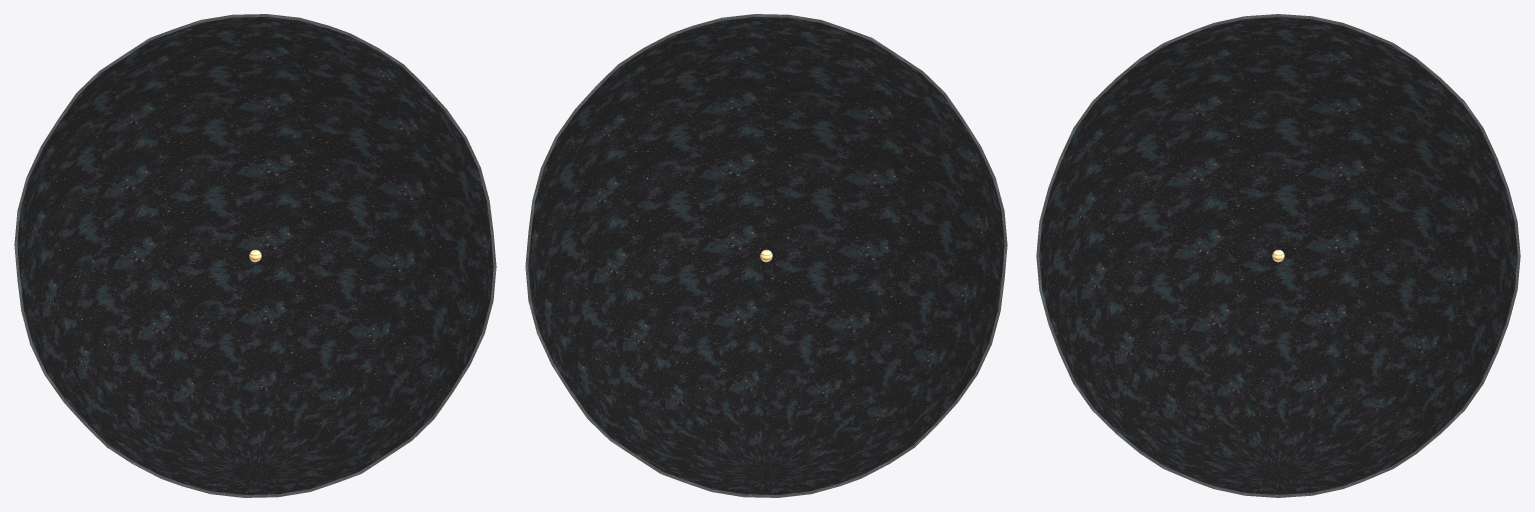
Rendered from jupiter.glb.
The picture shows the model from 3 angles, left to right: view 1: azimuth 30°, elevation 25°; view 2: azimuth 150°, elevation 25°; view 3: azimuth 270°, elevation 25°; orthographic projection.
Visible parts, largest first — view 1: stars, stars2; view 2: stars, stars2; view 3: stars, stars2.
Part boxes in pixels (bbox=[...]): stars: bbox=[14, 14, 496, 497]; stars2: bbox=[17, 17, 493, 494]; stars: bbox=[525, 14, 1007, 497]; stars2: bbox=[528, 17, 1004, 494]; stars: bbox=[1036, 14, 1520, 497]; stars2: bbox=[1039, 17, 1517, 494].
Size of the model in its own units: 3.16 by 3.16 by 3.16.
3 materials, 2 textured.
